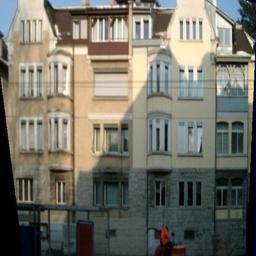building: (8, 0, 256, 245)
